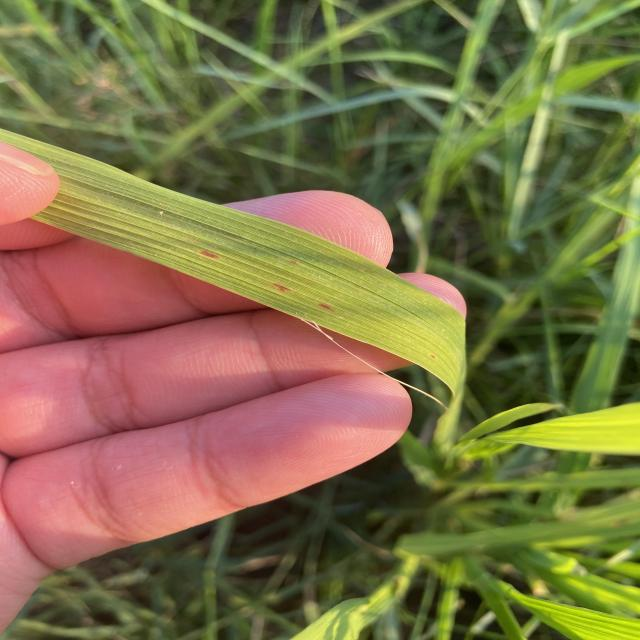Dom nau: (199, 250, 220, 259), (272, 283, 291, 291), (319, 304, 332, 310)
